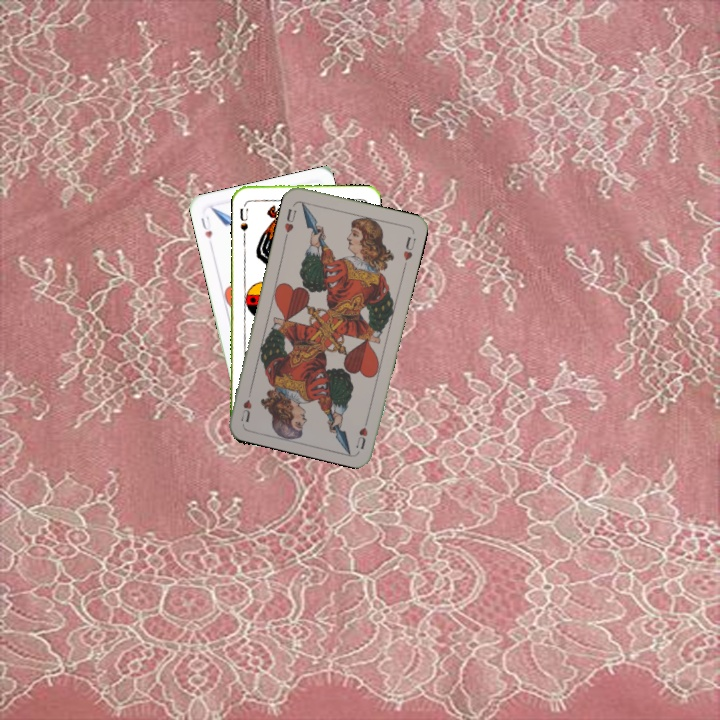HU: (352, 412, 371, 452), (280, 205, 299, 235), (197, 212, 215, 241)
SU: (236, 199, 250, 239)
